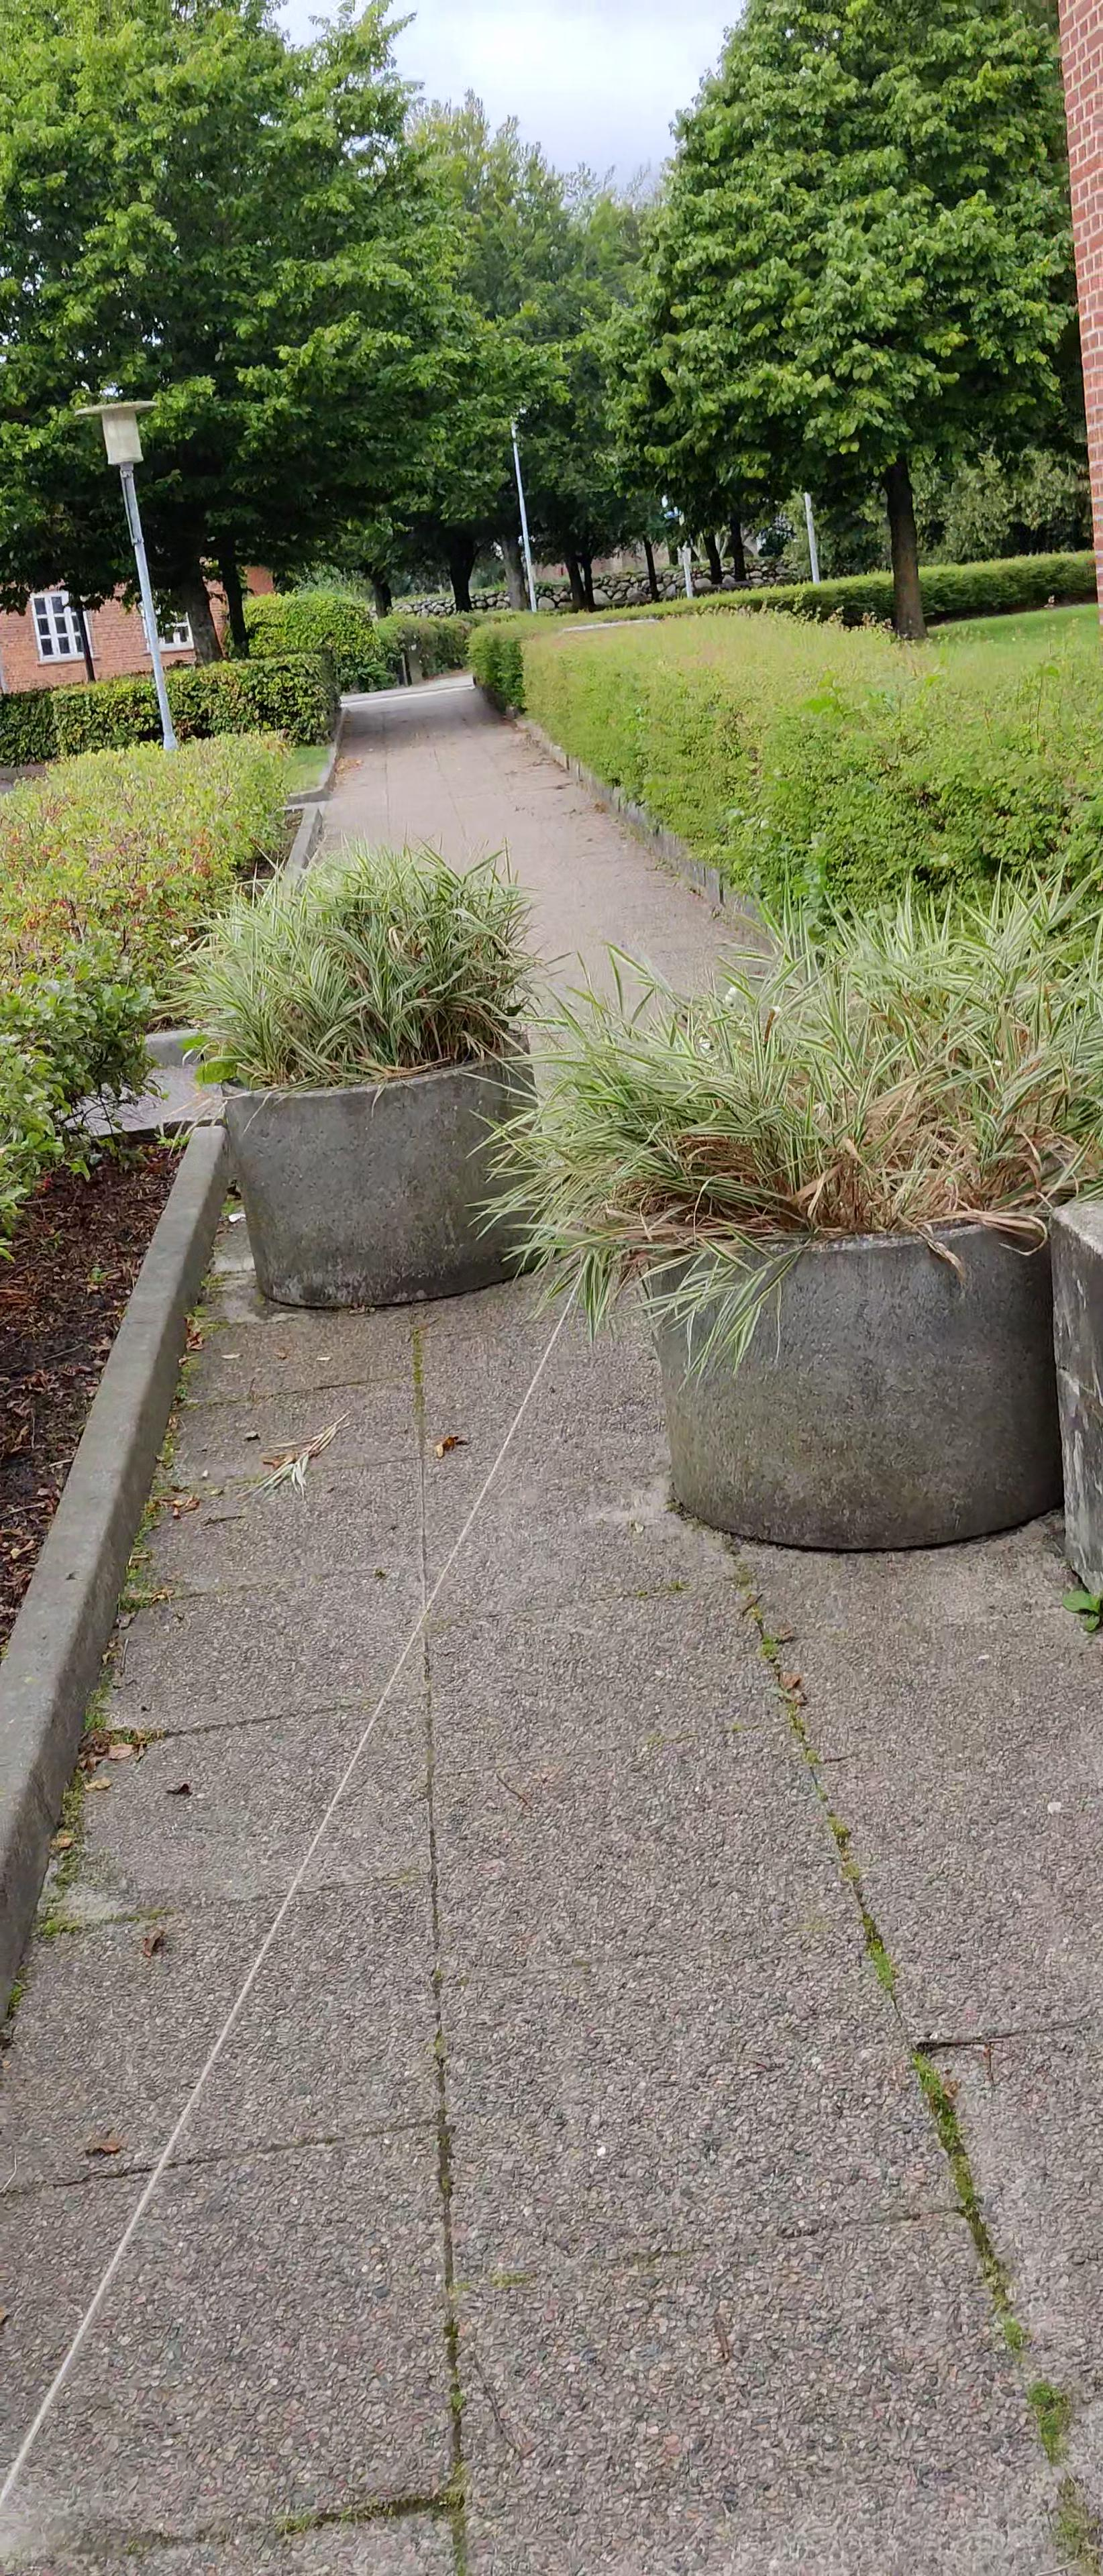Dog: (694, 977, 745, 1053)
